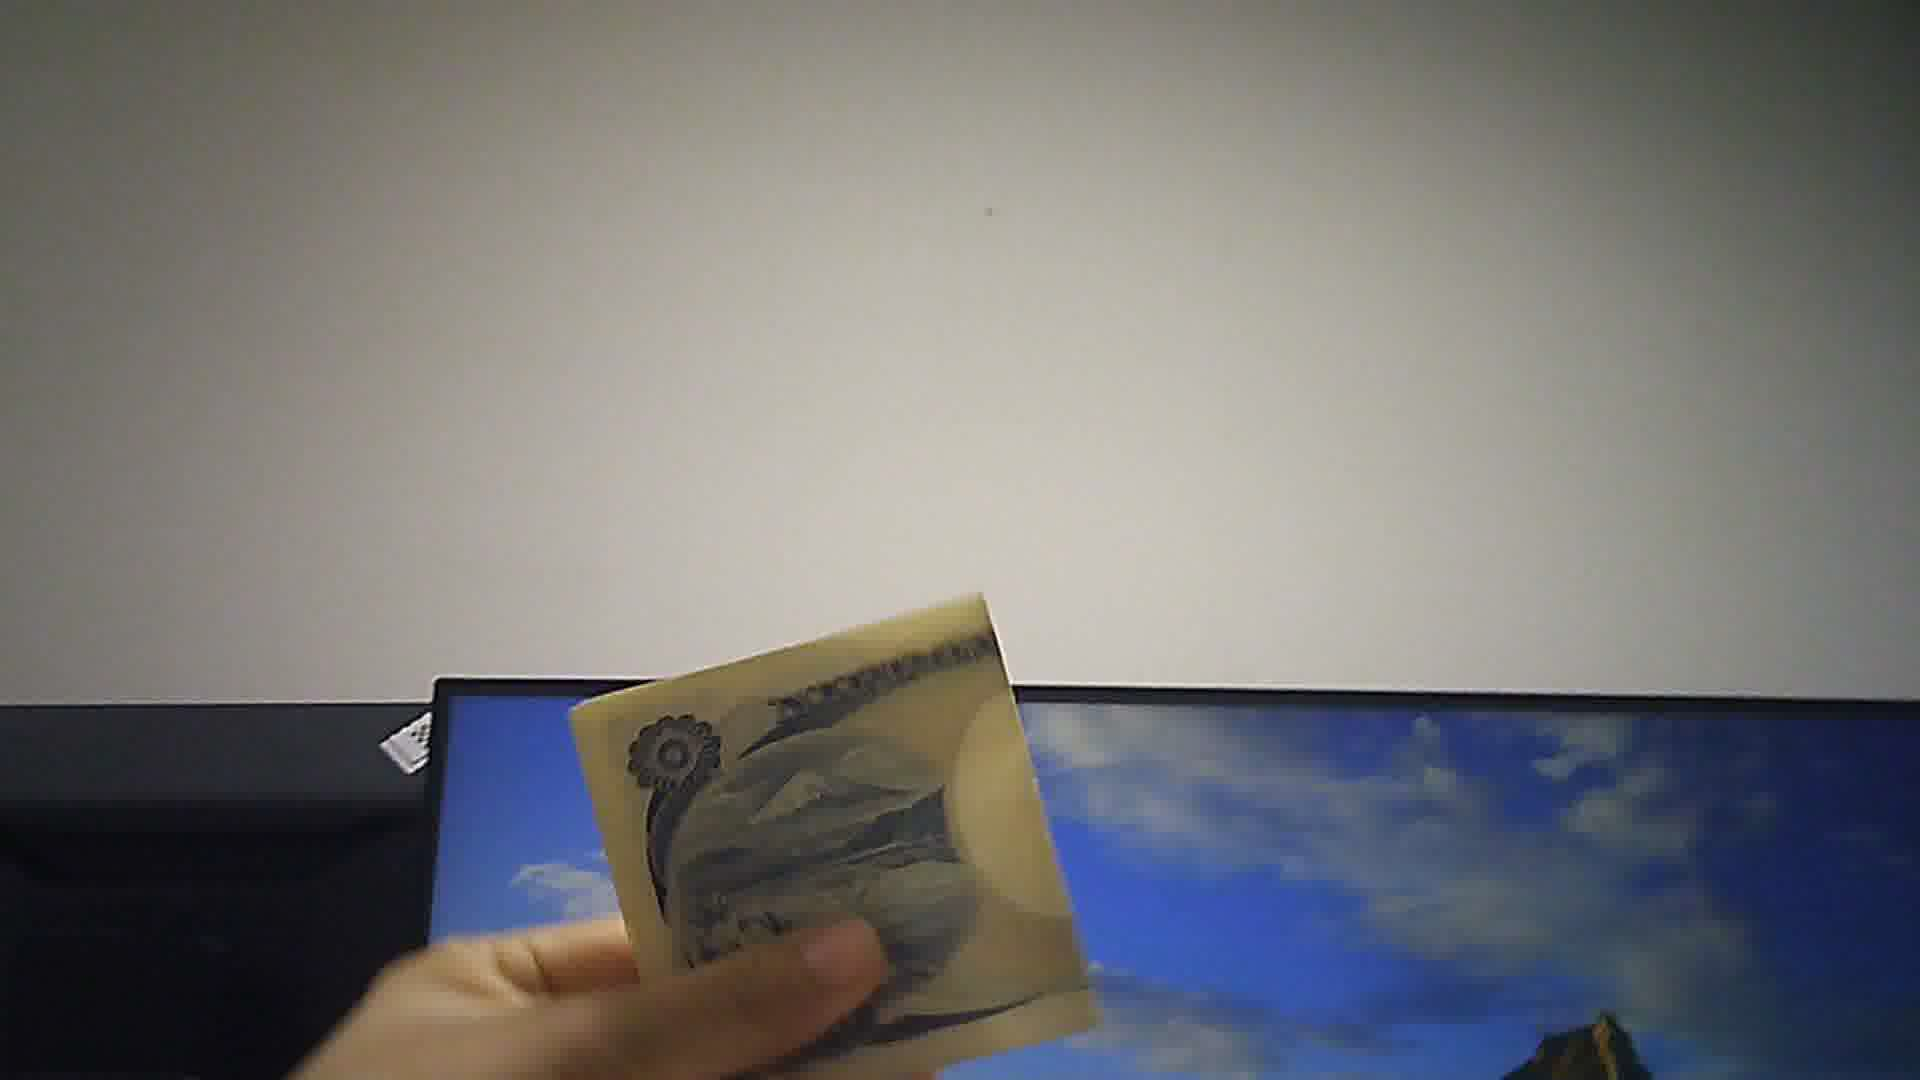1,000 Yen: (564, 607, 1112, 1079)
